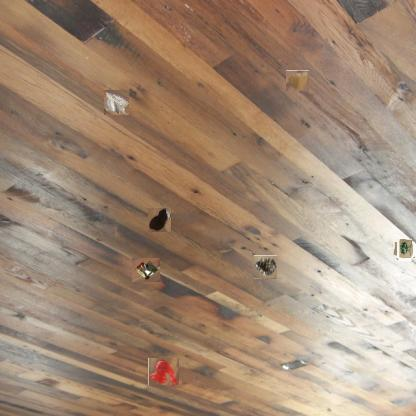dirty: (104, 89, 130, 115), (132, 258, 160, 282), (254, 255, 277, 279), (286, 70, 309, 92), (395, 241, 414, 260)
liquid: (149, 357, 178, 386), (147, 208, 171, 232)
